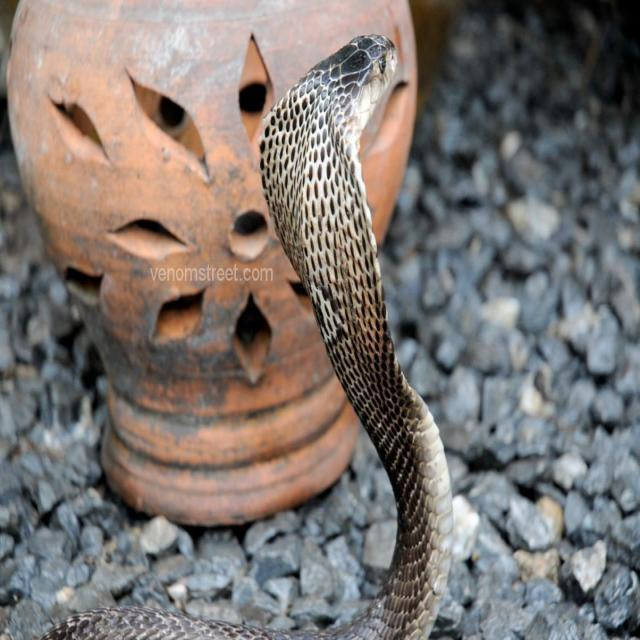Snake: (26, 24, 455, 640)
